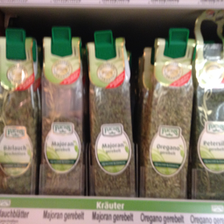spices: (143, 38, 195, 198), (88, 36, 135, 196), (41, 36, 86, 195), (1, 37, 39, 192), (195, 38, 224, 201)
